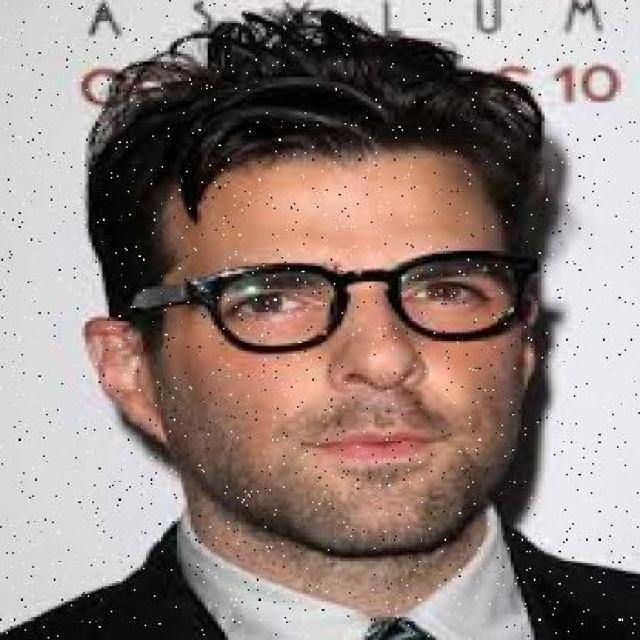mask: (174, 248, 548, 348)
